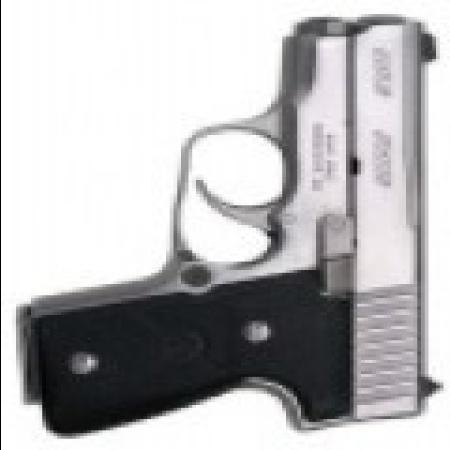Pistol: (23, 17, 442, 433)
